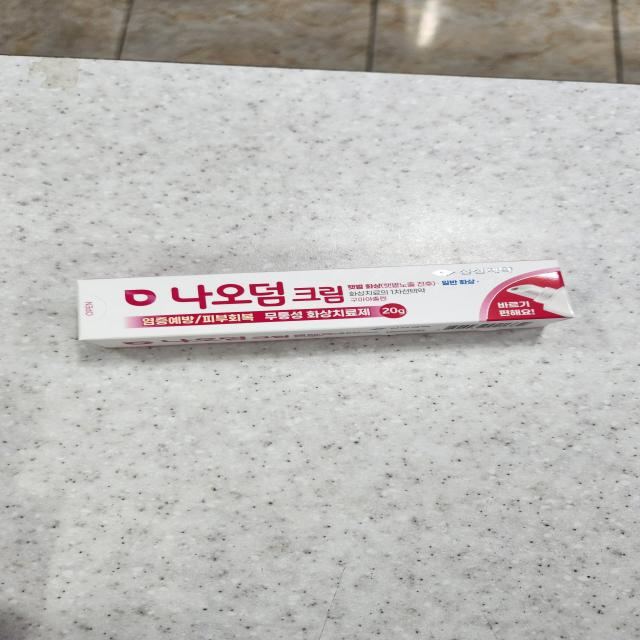box: (78, 260, 573, 348)
